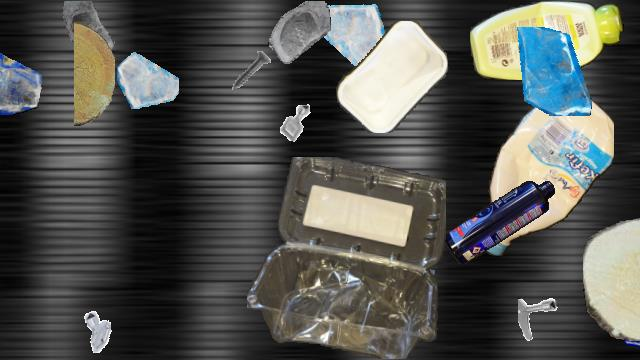glass: (508, 27, 596, 115), (359, 240, 435, 316), (315, 1, 387, 73), (59, 1, 123, 65), (117, 47, 179, 109), (268, 1, 330, 63), (0, 29, 42, 117), (613, 288, 640, 350)
metal: (518, 296, 578, 356), (225, 45, 279, 99), (270, 97, 322, 149), (78, 308, 122, 352)
plastic: (247, 157, 445, 359), (484, 86, 614, 260), (335, 21, 449, 133), (470, 1, 624, 79), (444, 181, 554, 263)
wood: (583, 218, 640, 340), (74, 22, 114, 126)
